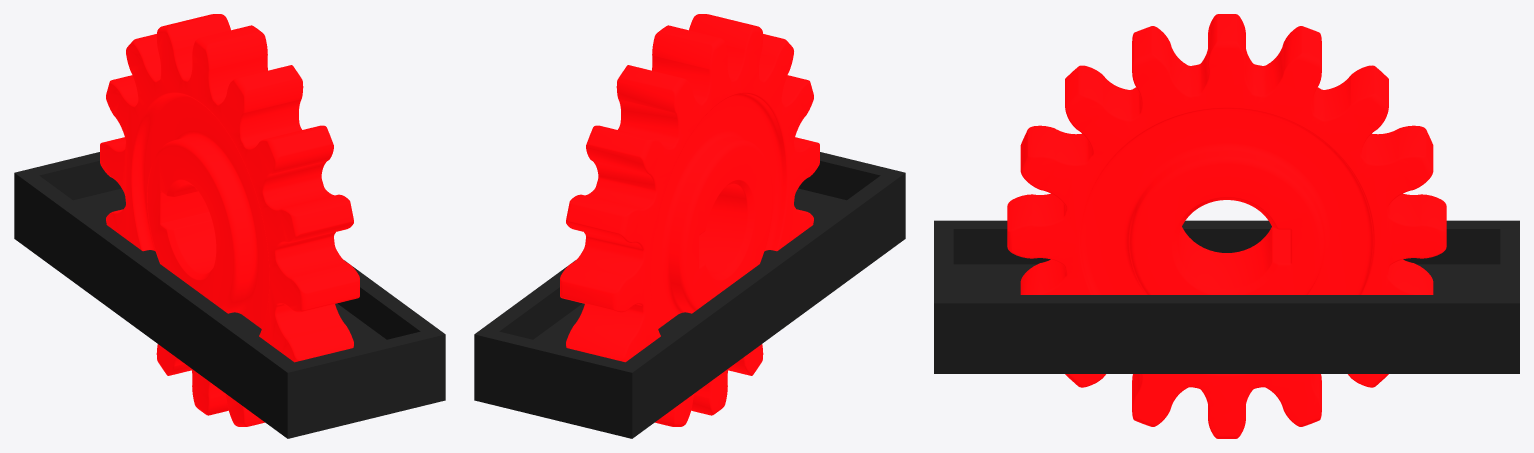
The model's file is gear_and_base.fbx.
3 renders of one model, left to right at view 1: azimuth 30°, elevation 25°; view 2: azimuth 150°, elevation 25°; view 3: azimuth 270°, elevation 25°, orthographic. The views are drawn at different scales.
Visible parts, largest first — view 1: gear, gear_base; view 2: gear, gear_base; view 3: gear, gear_base.
Boxes of the visible parts, <box> form: gear: <box>100,14,359,426</box>; gear_base: <box>14,152,445,438</box>; gear: <box>560,14,819,426</box>; gear_base: <box>474,152,905,438</box>; gear: <box>1007,14,1446,438</box>; gear_base: <box>934,220,1519,373</box>.
Bounding box in the file's own units: 50 × 112 × 150.
